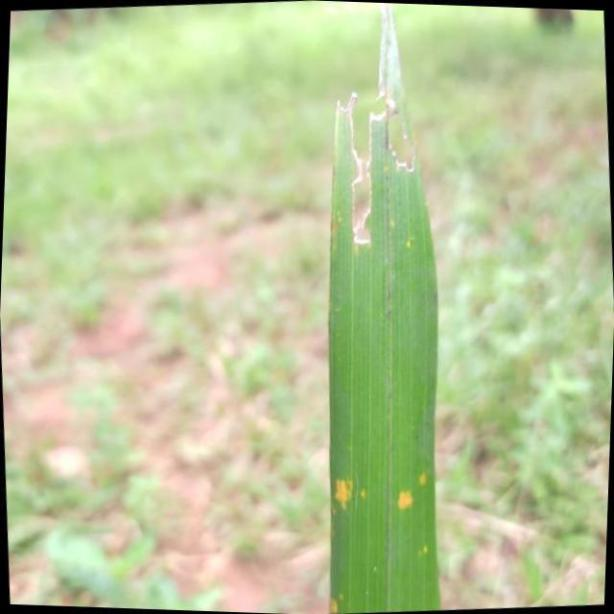Kalium: (321, 0, 440, 614)
